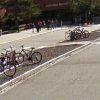Bicycle: (2, 38, 43, 80)
